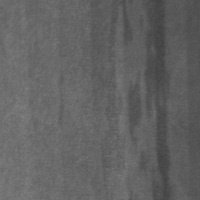inclusion: (126, 1, 172, 199), (52, 70, 68, 131)
